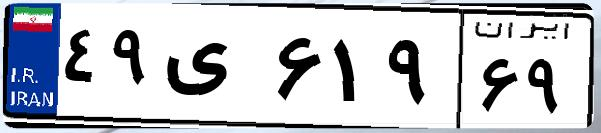1: (330, 28, 385, 110)
4: (57, 26, 110, 100)
6: (270, 28, 330, 110), (475, 38, 525, 113)
9: (385, 28, 445, 110), (525, 38, 570, 115), (110, 28, 158, 98)
ی: (158, 20, 270, 120)
